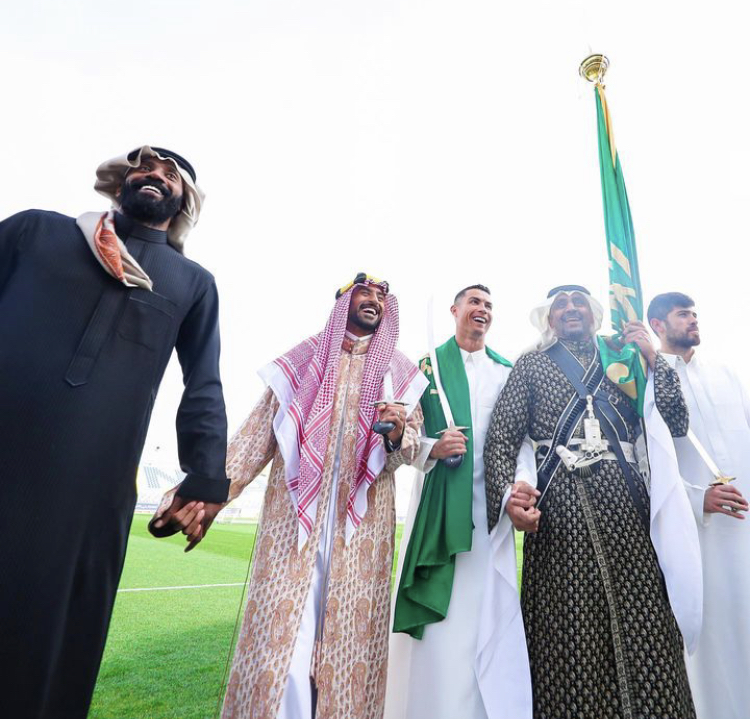Saudi_Founding_Day: (146, 266, 428, 719)
